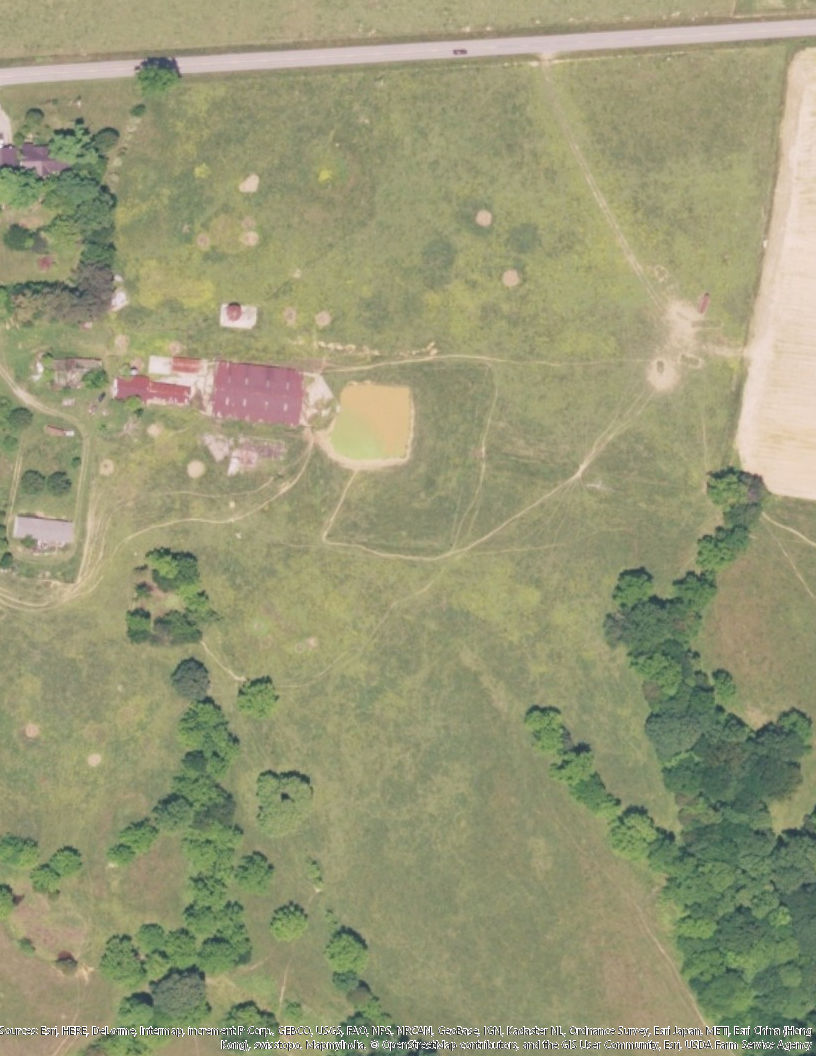cafo: (204, 359, 318, 431)
